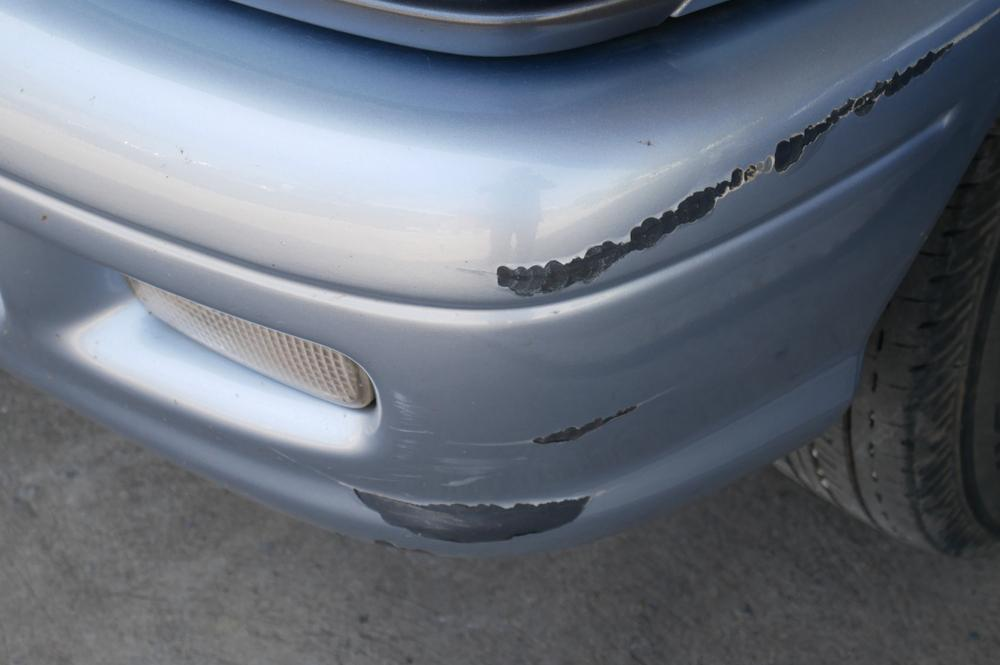scratch: (491, 0, 1000, 302), (386, 384, 684, 490), (347, 486, 599, 548)
